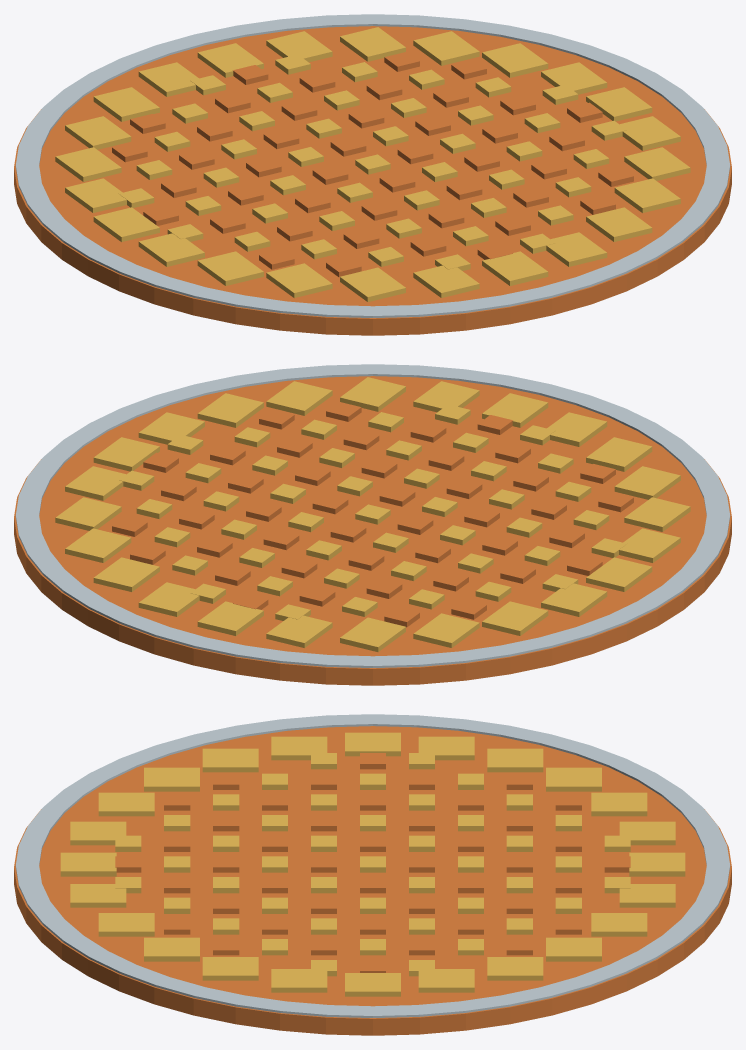
Rendered from 03_L78_PlanarizedCopperInterconnectWafer.fbx.
3 renders of one model, top to bottom at view 1: azimuth 30°, elevation 25°; view 2: azimuth 150°, elevation 25°; view 3: azimuth 270°, elevation 25°, orthographic.
Parts seen in each view (by area): view 1: PlanarizedCopperInterconnectWafer; view 2: PlanarizedCopperInterconnectWafer; view 3: PlanarizedCopperInterconnectWafer.
Boxes of the visible parts, x1,y1,x2,y2 form: PlanarizedCopperInterconnectWafer: [14, 14, 731, 335]; PlanarizedCopperInterconnectWafer: [14, 364, 731, 685]; PlanarizedCopperInterconnectWafer: [14, 714, 731, 1035].
Bounding box in the file's own units: 154 × 5.25 × 154.
